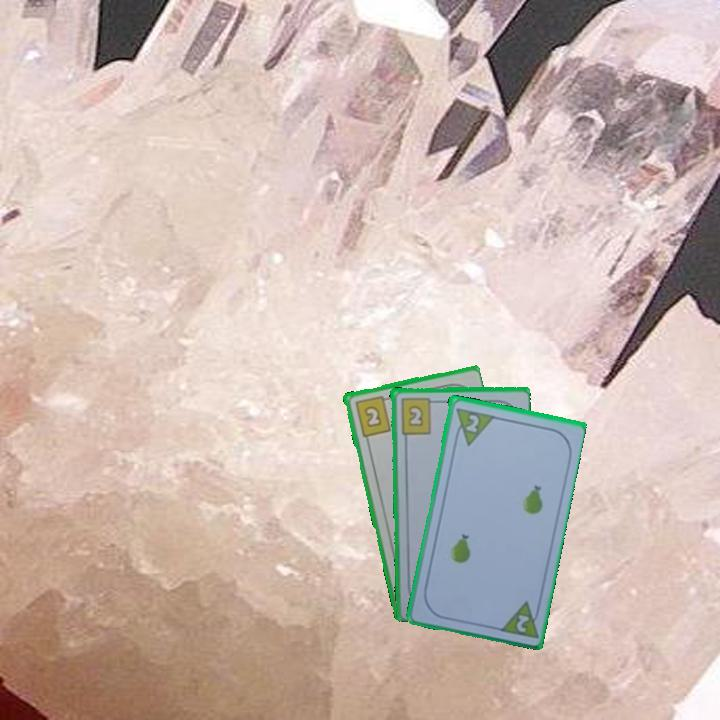2b: (351, 392, 393, 439), (397, 394, 439, 436)
2p: (450, 404, 495, 448), (512, 610, 532, 635)
